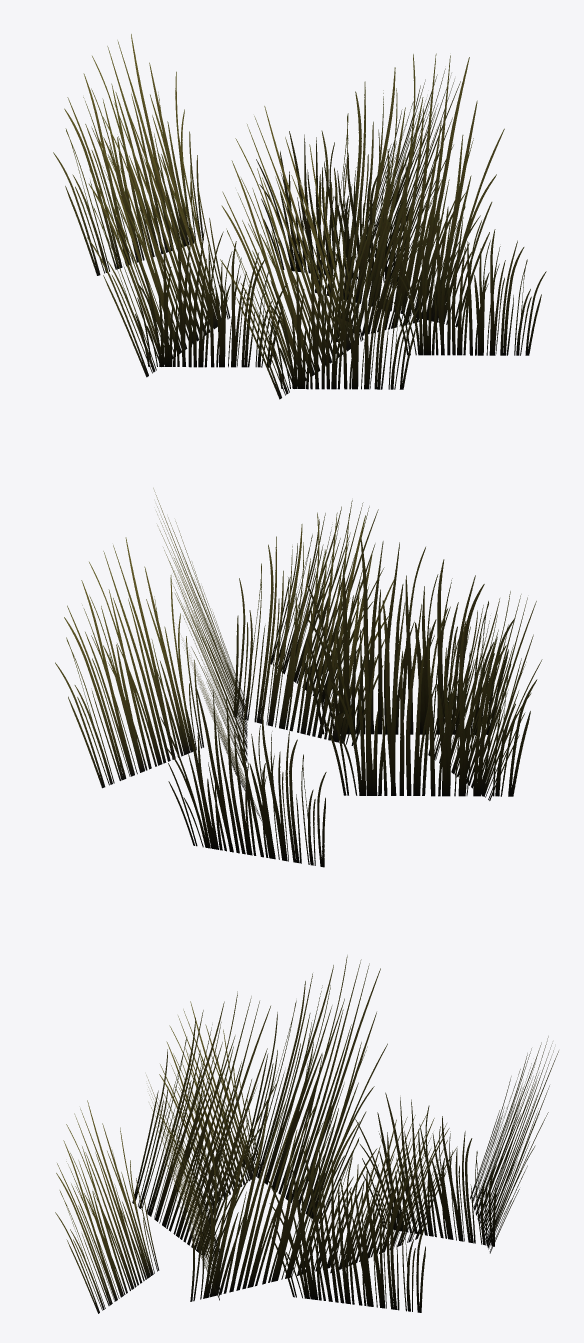
The model's file is scenery-4.glb.
The picture shows the model from 3 angles, top to bottom: view 1: azimuth 30°, elevation 25°; view 2: azimuth 150°, elevation 25°; view 3: azimuth 270°, elevation 25°; orthographic projection. The views are drawn at different scales.
Bounding box in the file's own units: 5.74 × 2.71 × 6.09.
1 material, 1 textured.
